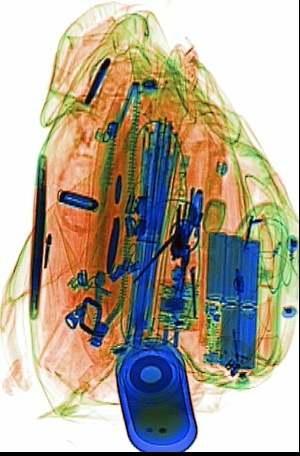powerbank: (196, 223, 264, 373)
